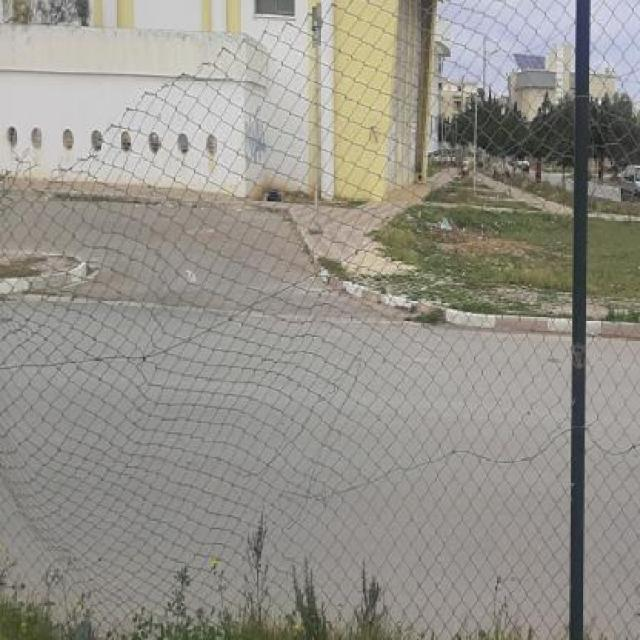fence line: (5, 29, 298, 172)
